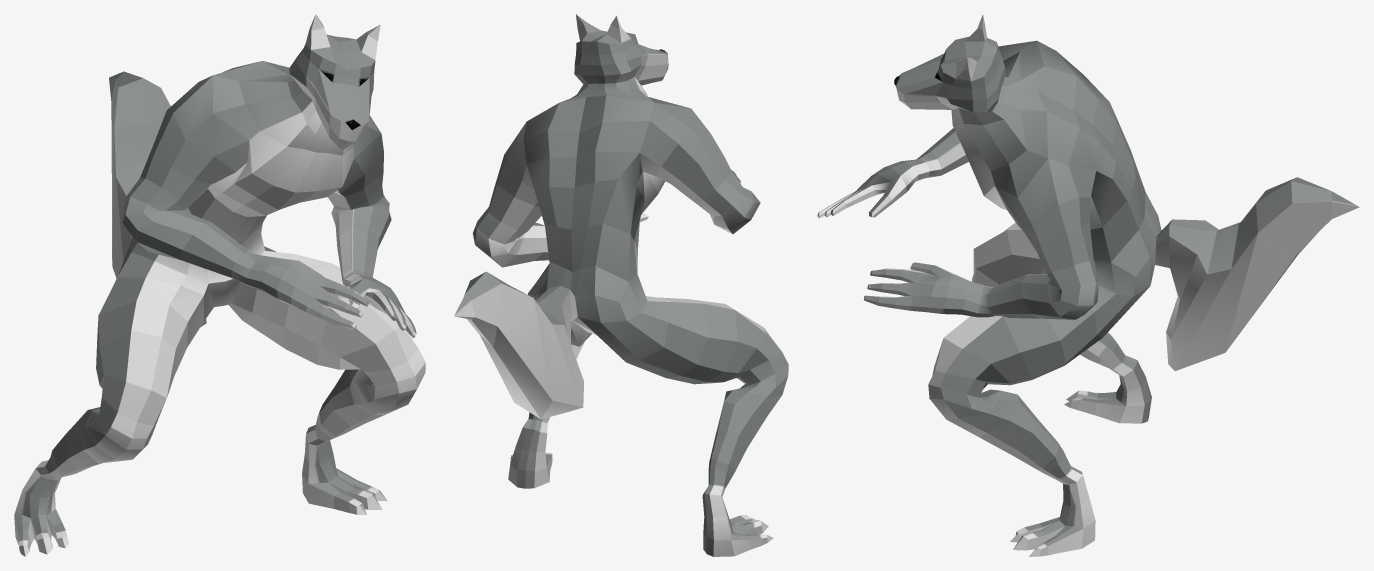
File: WolfAttack(61).obj
3 renders of one model, left to right at view 1: azimuth 30°, elevation 25°; view 2: azimuth 150°, elevation 25°; view 3: azimuth 270°, elevation 25°, orthographic. The views are drawn at different scales.
Visible parts, largest first — view 1: Box001; view 2: Box001; view 3: Box001.
Part boxes in pixels (x1,y1,x2,y2): Box001: (14,14,425,556); Box001: (454,14,788,556); Box001: (817,14,1359,556).
Bounding box in the file's own units: 87.08 × 123 × 121.
